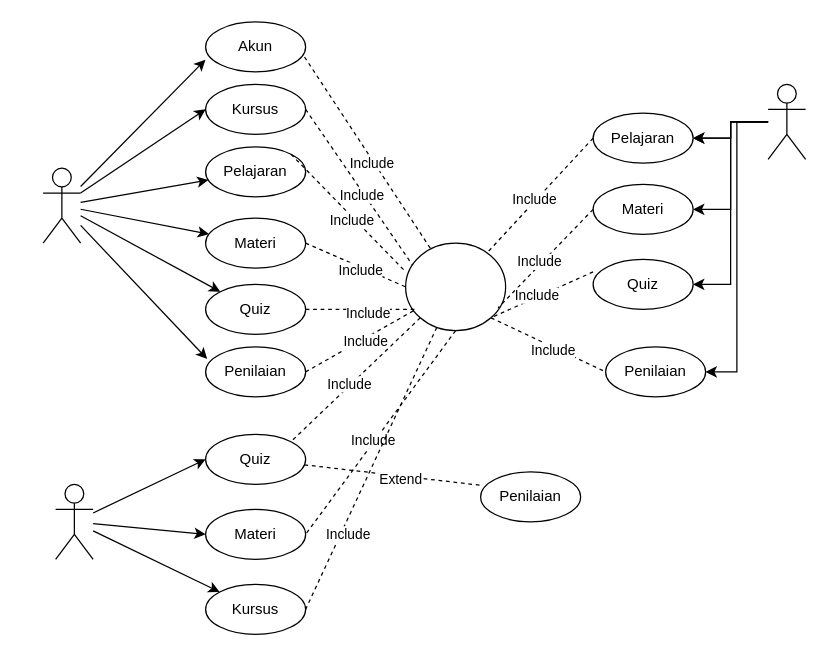
Some shapes in this 828 by 656 pixel diagram are drawn without their labels. The centre of each missing label's shape, as x and y in pixels:
"Guru" belongs at [786,121].
"Login" belongs at [455,286].
"Siswa/i" belongs at [73,521].
"Superadmin" belongs at [61,205].
